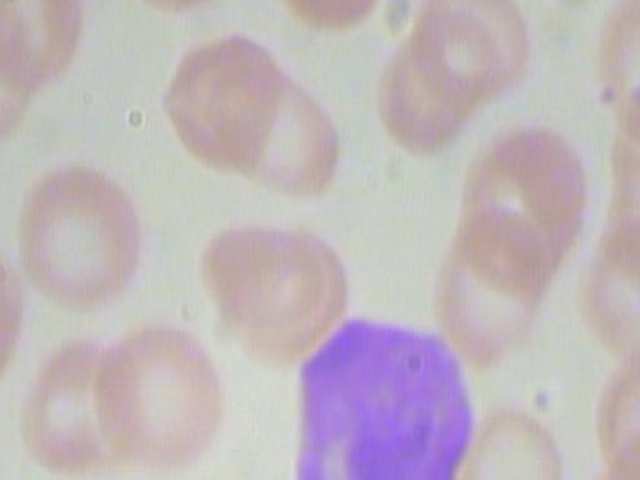RBC: (452, 123, 592, 297), (6, 159, 157, 314), (430, 204, 569, 364), (92, 314, 224, 477), (202, 54, 345, 204), (159, 23, 288, 176), (15, 334, 135, 476), (194, 216, 326, 330), (407, 0, 536, 106), (446, 398, 579, 480), (576, 216, 640, 380), (586, 0, 640, 151), (0, 0, 88, 77), (0, 235, 27, 409), (106, 0, 256, 24)
WBC: (276, 315, 480, 480)
